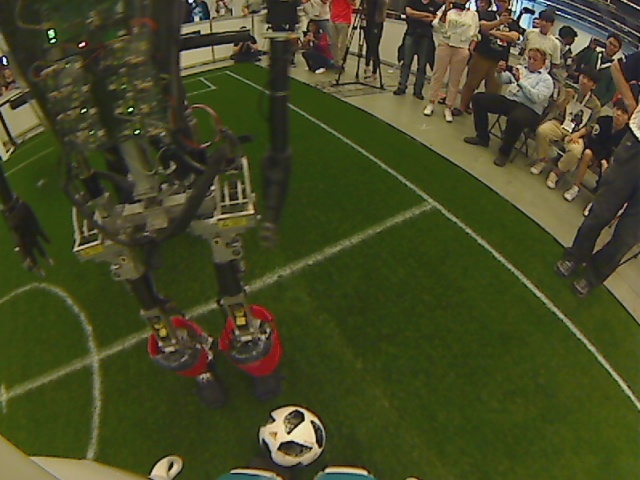ball: (256, 404, 327, 469)
